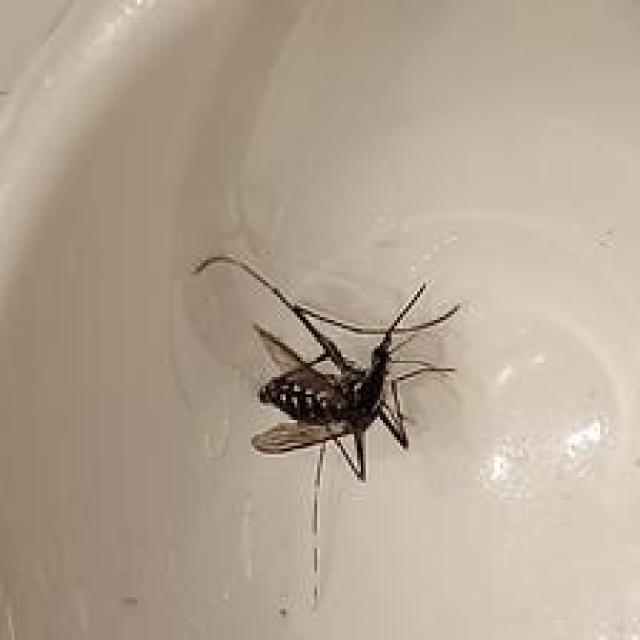Aedes albopictus: (190, 252, 461, 614)
